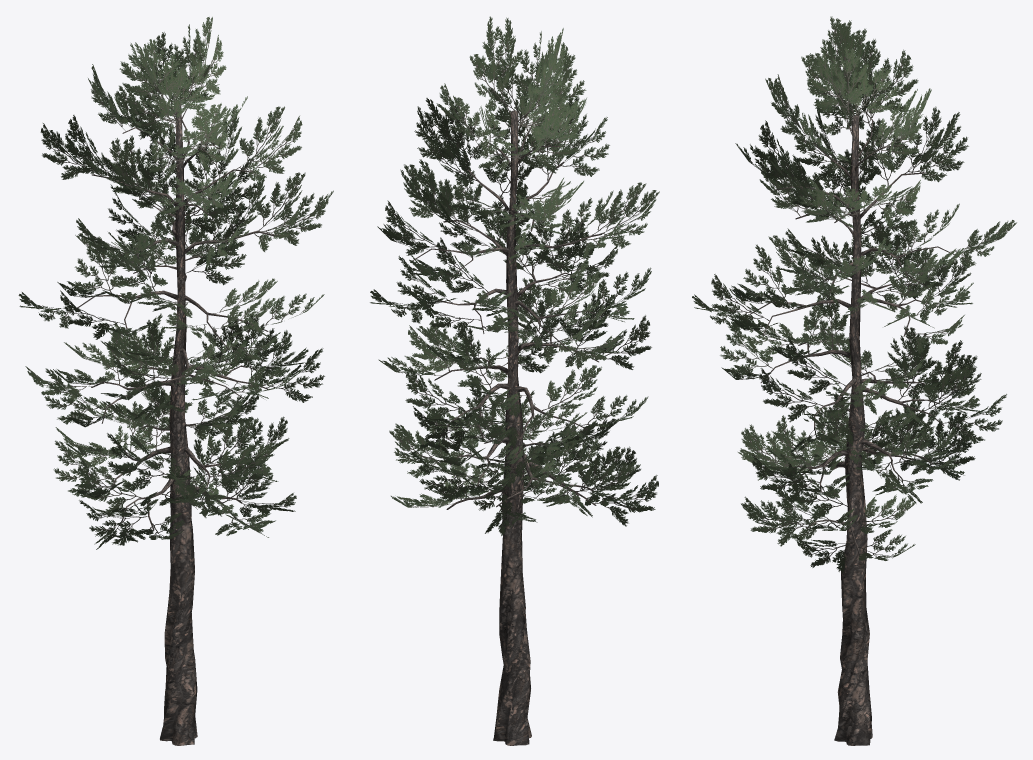
File: light.glb
The picture shows the model from 3 angles, left to right: view 1: azimuth 30°, elevation 25°; view 2: azimuth 150°, elevation 25°; view 3: azimuth 270°, elevation 25°; orthographic projection.
Visible parts, largest first — view 1: Tree_1, Tree_0; view 2: Tree_1, Tree_0; view 3: Tree_1, Tree_0.
Boxes of the visible parts, x1,y1,x2,y2 form: Tree_1: [18, 17, 333, 549]; Tree_0: [76, 84, 275, 745]; Tree_1: [370, 16, 659, 535]; Tree_0: [412, 92, 602, 745]; Tree_1: [692, 16, 1016, 573]; Tree_0: [749, 95, 960, 745].
Size of the model in its own units: 2.14 by 5.46 by 2.3.
2 materials, 2 textured.
